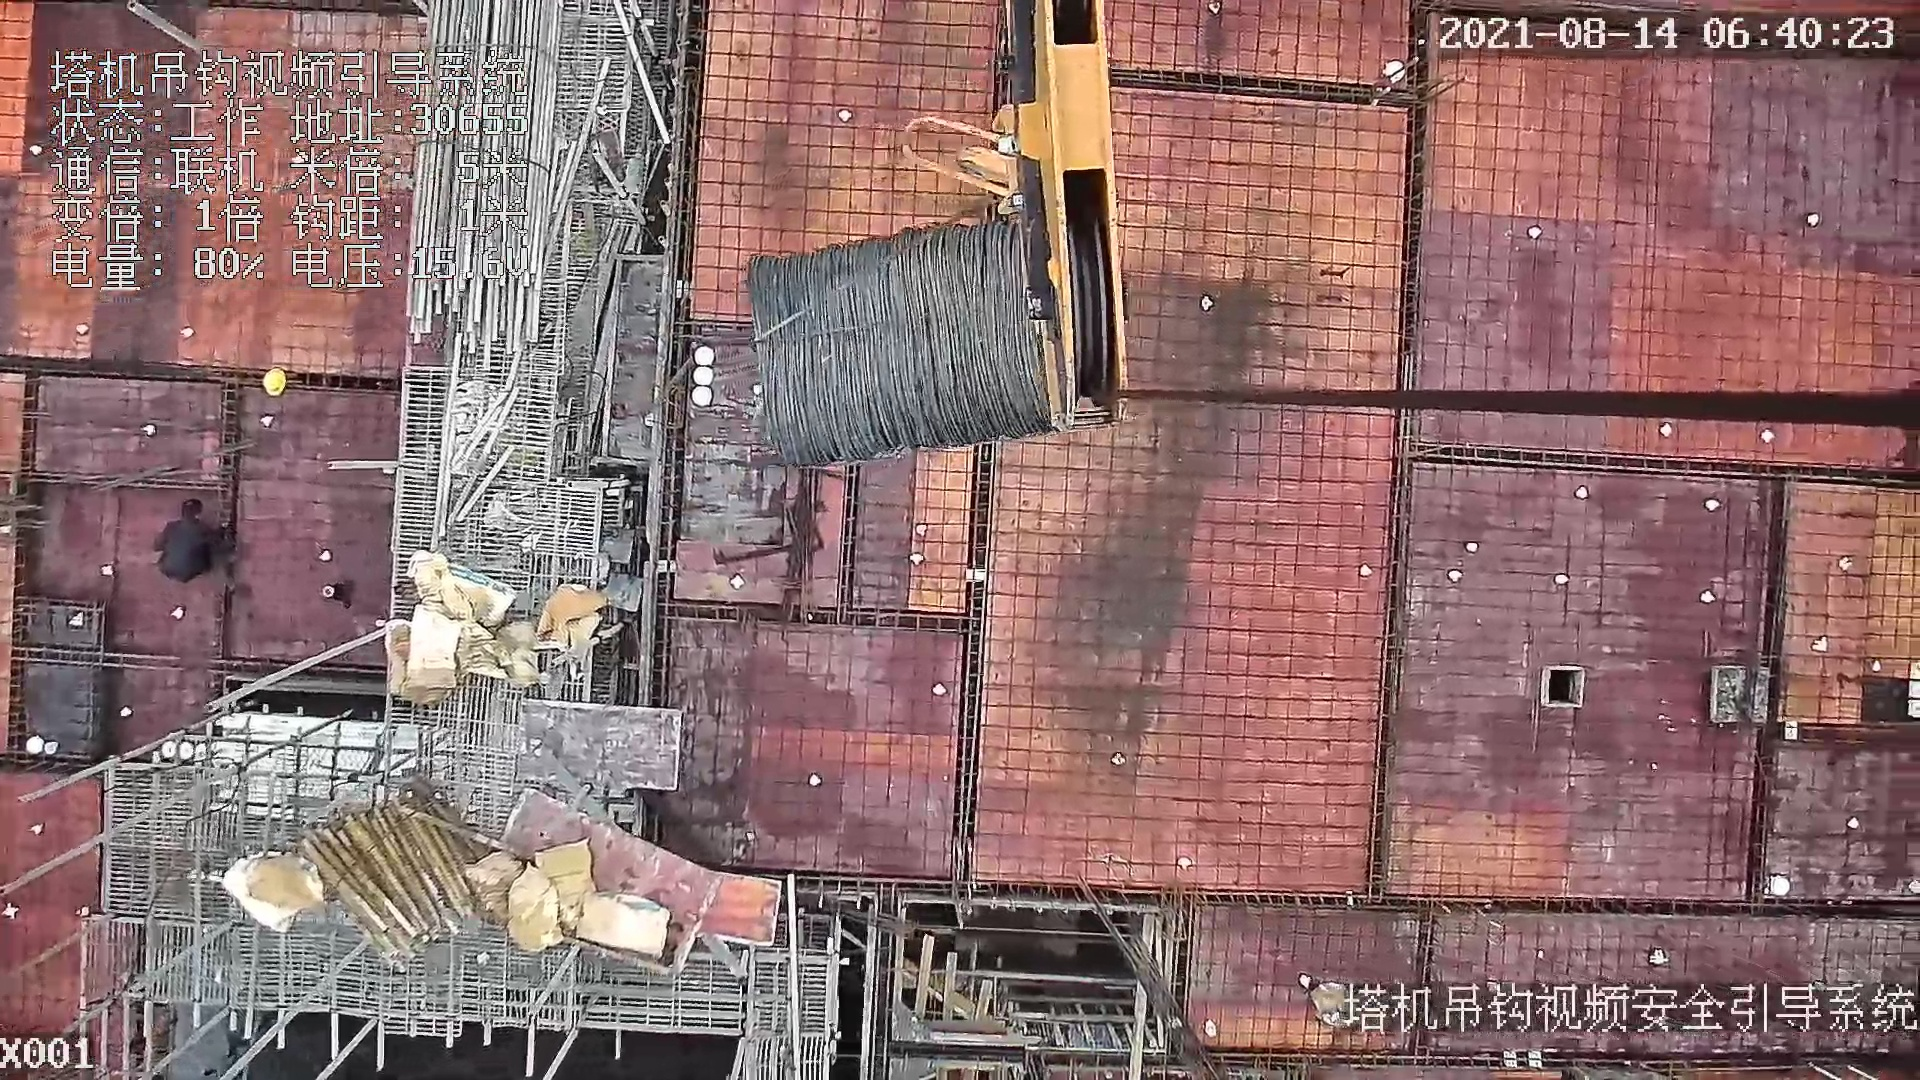helmet: (263, 365, 289, 401)
hook: (890, 1, 1131, 445)
person: (150, 492, 229, 583)
scaffold: (304, 795, 477, 953)
